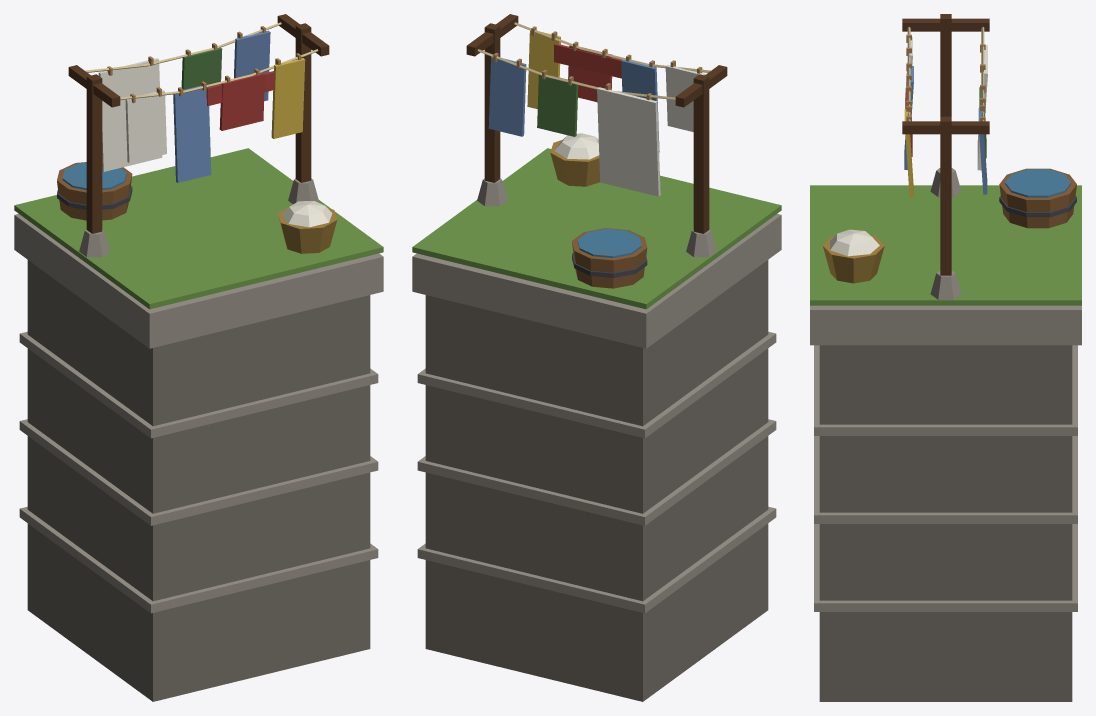
The model's file is decor_clothesline.glb.
3 renders of one model, left to right at view 1: azimuth 30°, elevation 25°; view 2: azimuth 150°, elevation 25°; view 3: azimuth 270°, elevation 25°, orthographic.
Visible parts, largest first — view 1: decor_clothesline; view 2: decor_clothesline; view 3: decor_clothesline.
Boxes of the visible parts, x1,y1,x2,y2 form: decor_clothesline: (14,14,383,701); decor_clothesline: (412,14,781,701); decor_clothesline: (810,14,1081,701).
Size of the model in its own units: 2.8 by 6.6 by 2.8.
